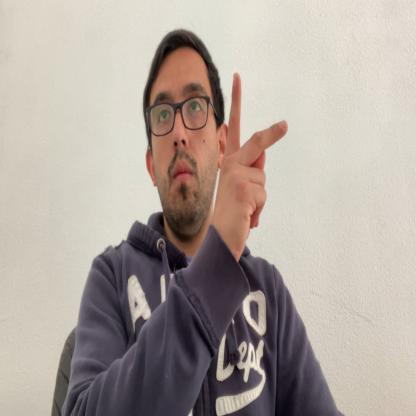P: (216, 72, 288, 254)
